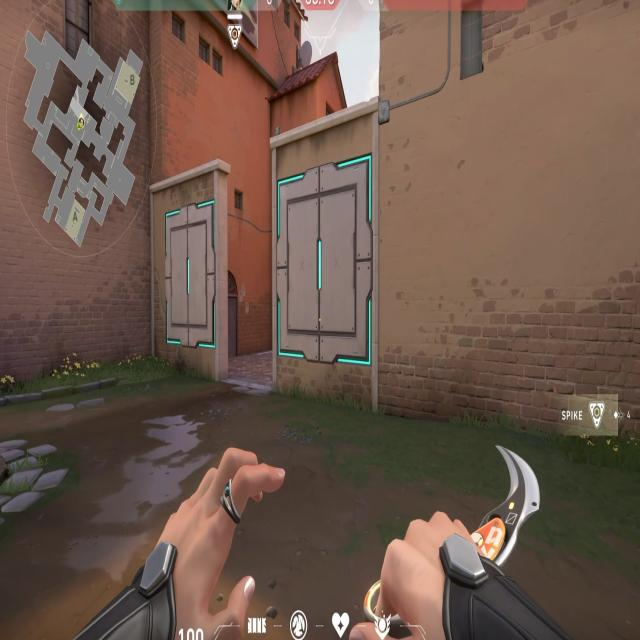Mid_Wall: (270, 108, 383, 408), (147, 165, 224, 379)
